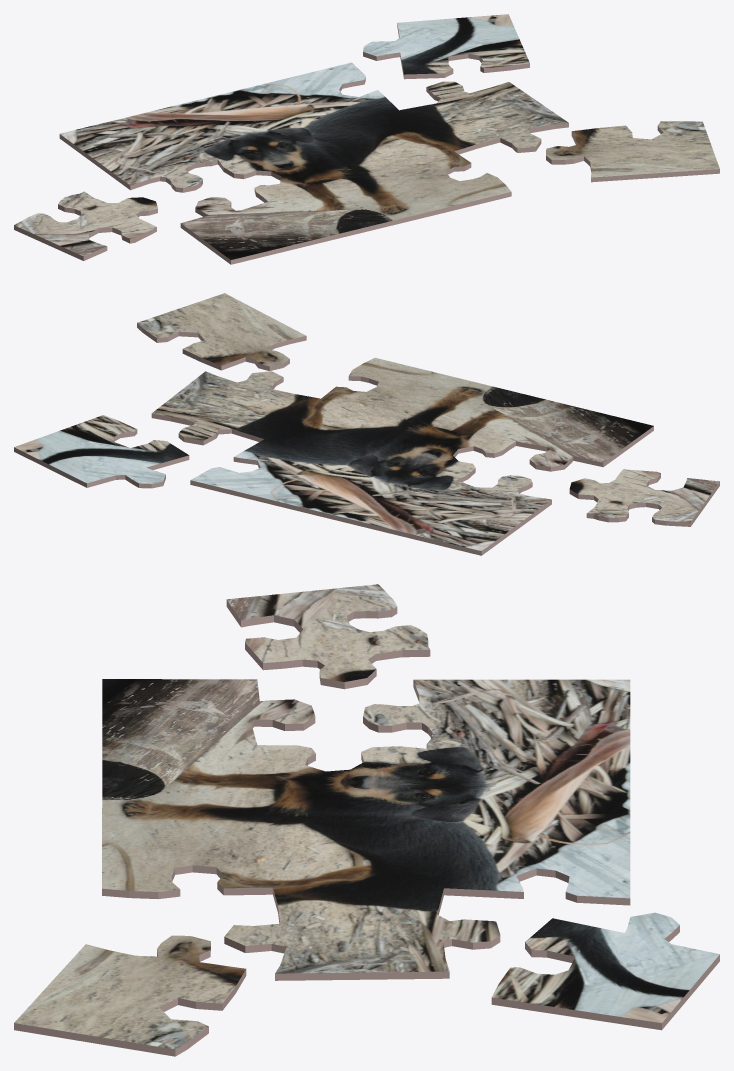
File: puzzle.fbx
3 renders of one model, top to bottom at view 1: azimuth 30°, elevation 25°; view 2: azimuth 150°, elevation 25°; view 3: azimuth 270°, elevation 25°, orthographic. The views are drawn at different scales.
Visible parts, largest first — view 1: 12, 4, 2, 8, 1, 10, 3, 6, 9, 5, 11, 7; view 2: 2, 12, 4, 8, 1, 3, 10, 6, 9, 5, 7, 11; view 3: 8, 12, 4, 2, 1, 3, 10, 5, 6, 11, 7, 9.
Part boxes in pixels (x1,y1,x2,y2): 12: (546, 121, 719, 182); 4: (363, 14, 529, 79); 2: (141, 88, 317, 164); 8: (399, 81, 568, 154); 1: (59, 114, 217, 192); 10: (261, 174, 433, 241); 3: (248, 62, 398, 136); 6: (218, 132, 364, 202); 9: (180, 197, 325, 264); 5: (14, 191, 157, 260); 11: (365, 147, 511, 218); 7: (307, 110, 460, 173); 2: (289, 458, 461, 535); 12: (137, 293, 306, 370); 4: (14, 415, 189, 488); 8: (151, 371, 320, 445); 1: (400, 475, 551, 555); 3: (190, 434, 358, 509); 10: (401, 379, 572, 441); 6: (359, 416, 515, 482); 9: (516, 403, 653, 471); 5: (569, 469, 719, 526); 7: (258, 398, 421, 458); 11: (321, 357, 464, 424); 8: (224, 886, 500, 980); 12: (14, 935, 246, 1056); 4: (491, 912, 719, 1030); 2: (422, 722, 630, 846); 1: (363, 679, 630, 748); 3: (387, 820, 630, 905); 10: (102, 723, 278, 846); 5: (226, 584, 430, 689); 6: (211, 745, 483, 821); 11: (102, 820, 330, 899); 7: (267, 796, 447, 910); 9: (102, 679, 315, 752).
Size of the model in its own units: 189 by 1.35 by 121.
